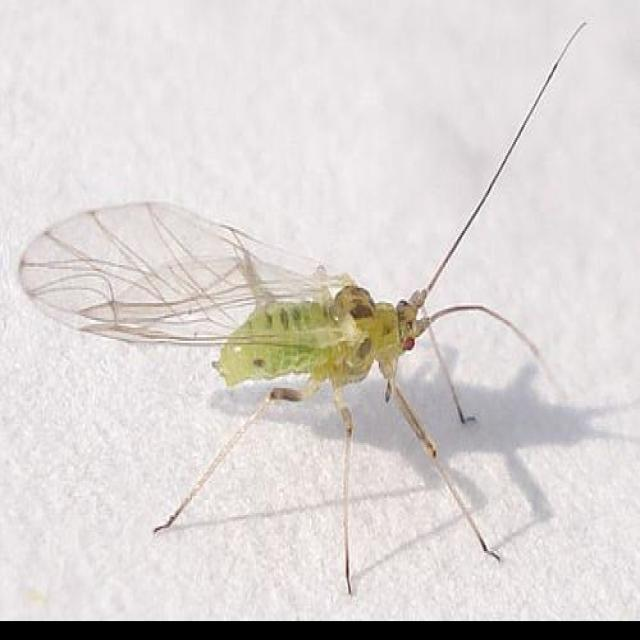Aphids: (12, 92, 593, 595)
